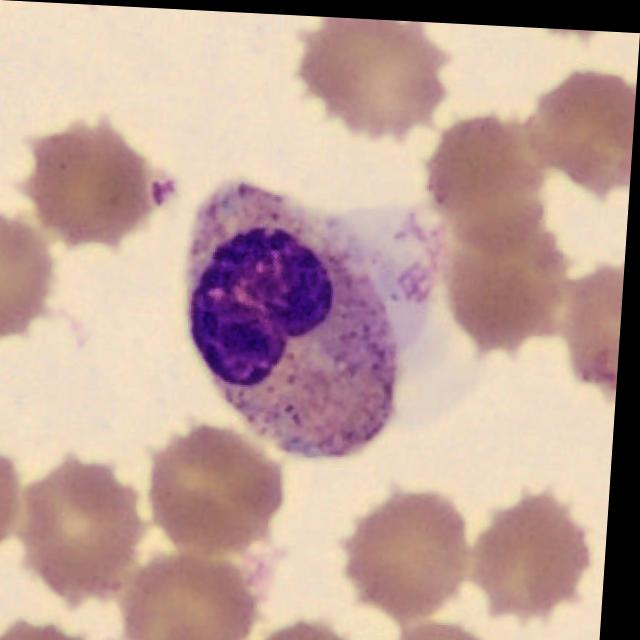Bastonete: (190, 179, 405, 453)
